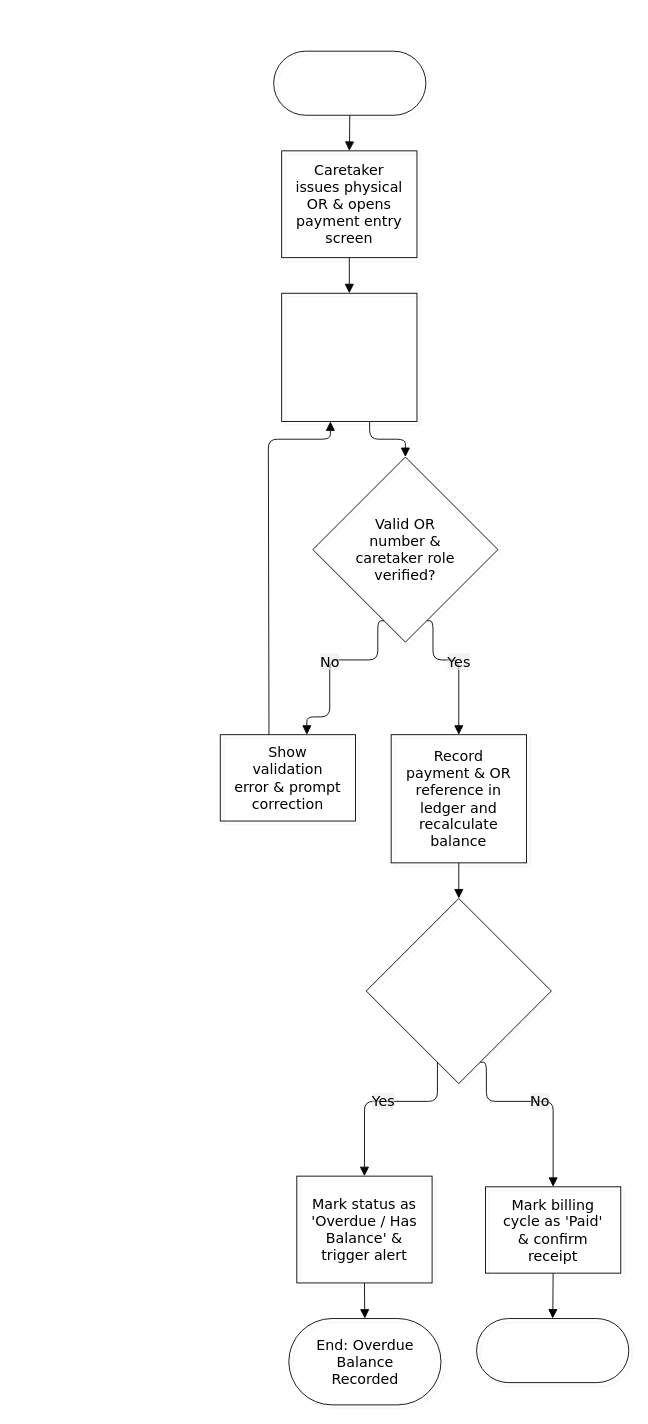
Image size: 648x1424. Some labels were removed from this diagram. Each missing label, with the centre of its shape:
End: Payment Completed: the point at 554,1352
Enter cash amount, date, OR number & boarder signature/ acknowledgment: the point at 351,358
Remaining balance > 0 or past due date?: the point at 460,992
Start: Boarder Pays Cash: the point at 351,84
